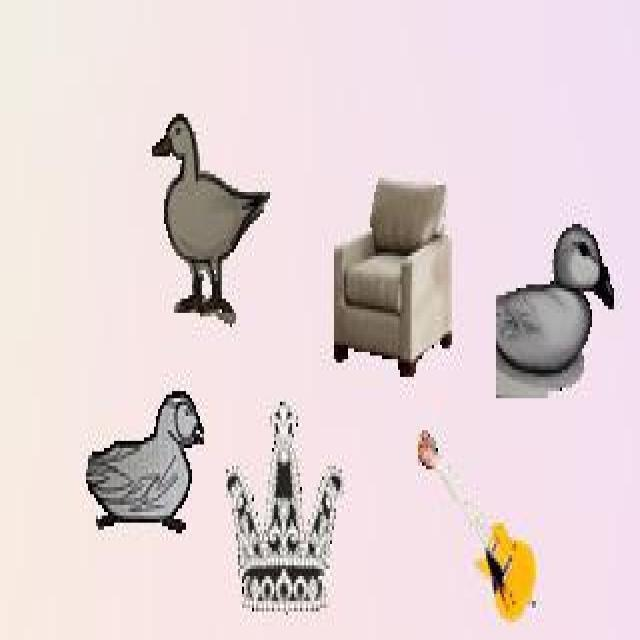Other Objects: (225, 402, 346, 617), (152, 110, 270, 326), (496, 222, 614, 399), (85, 391, 204, 534)
